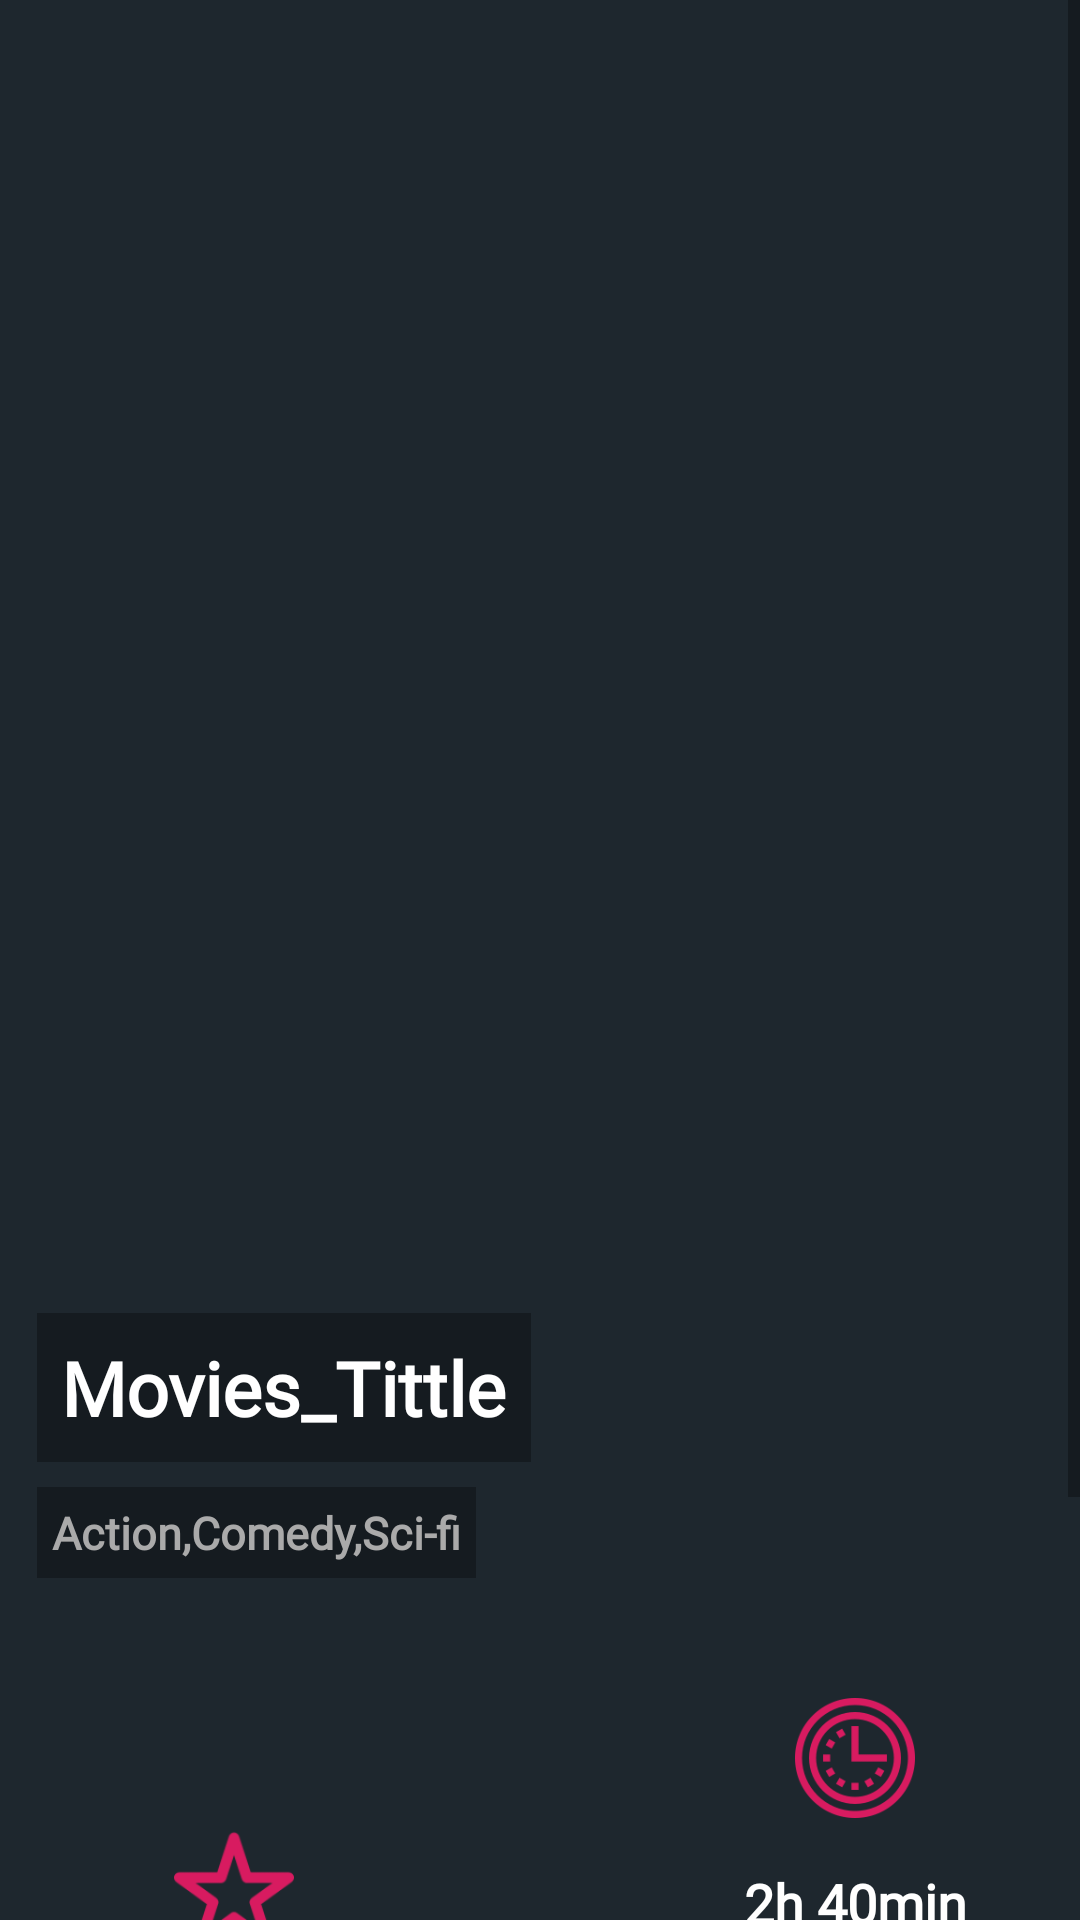

Locate icon controls on the screen. Image size 1080*1920, boxes as Rect(x1, y1, x2, y2).
duration: Rect(795, 1698, 915, 1818)
